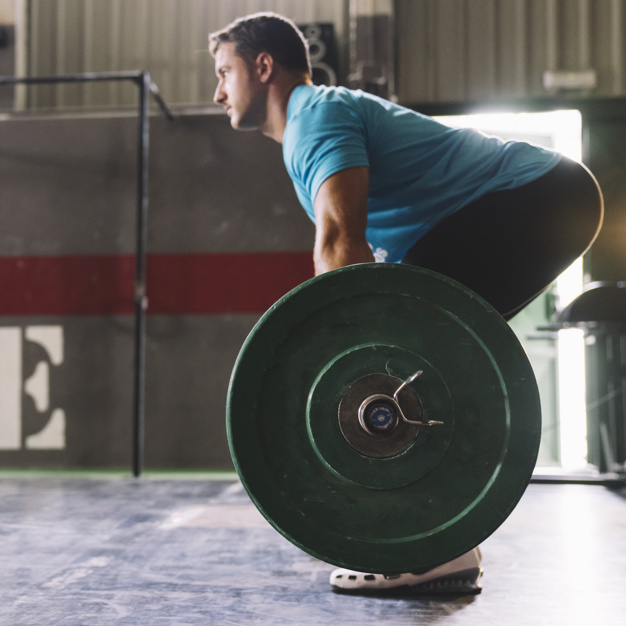barbell: (222, 260, 545, 579)
